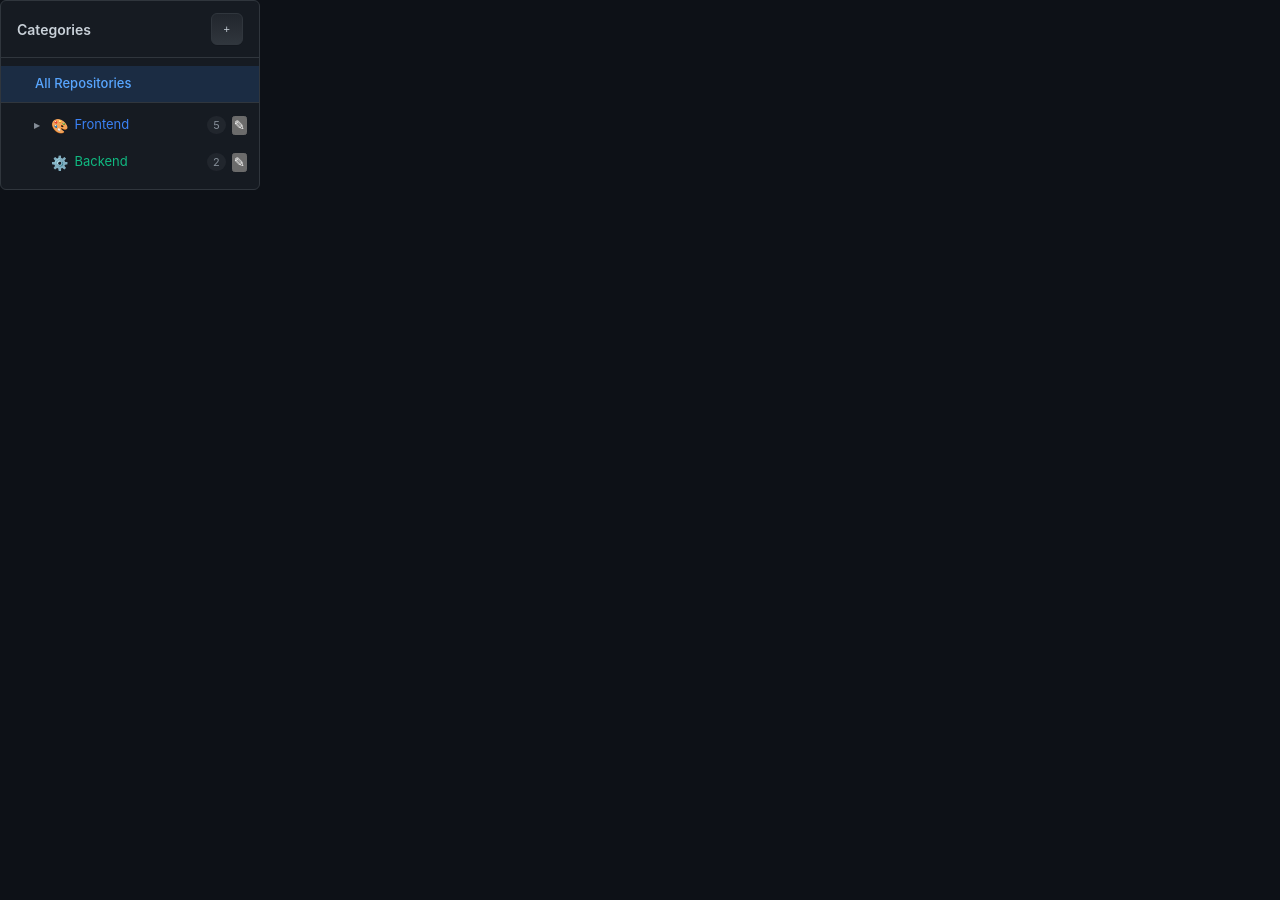
Test case: CategorySidebar › discards stale edit response when another edit is clicked
Click the 1st button titled "Edit category": (239, 125) left=232, top=116, right=247, bottom=134
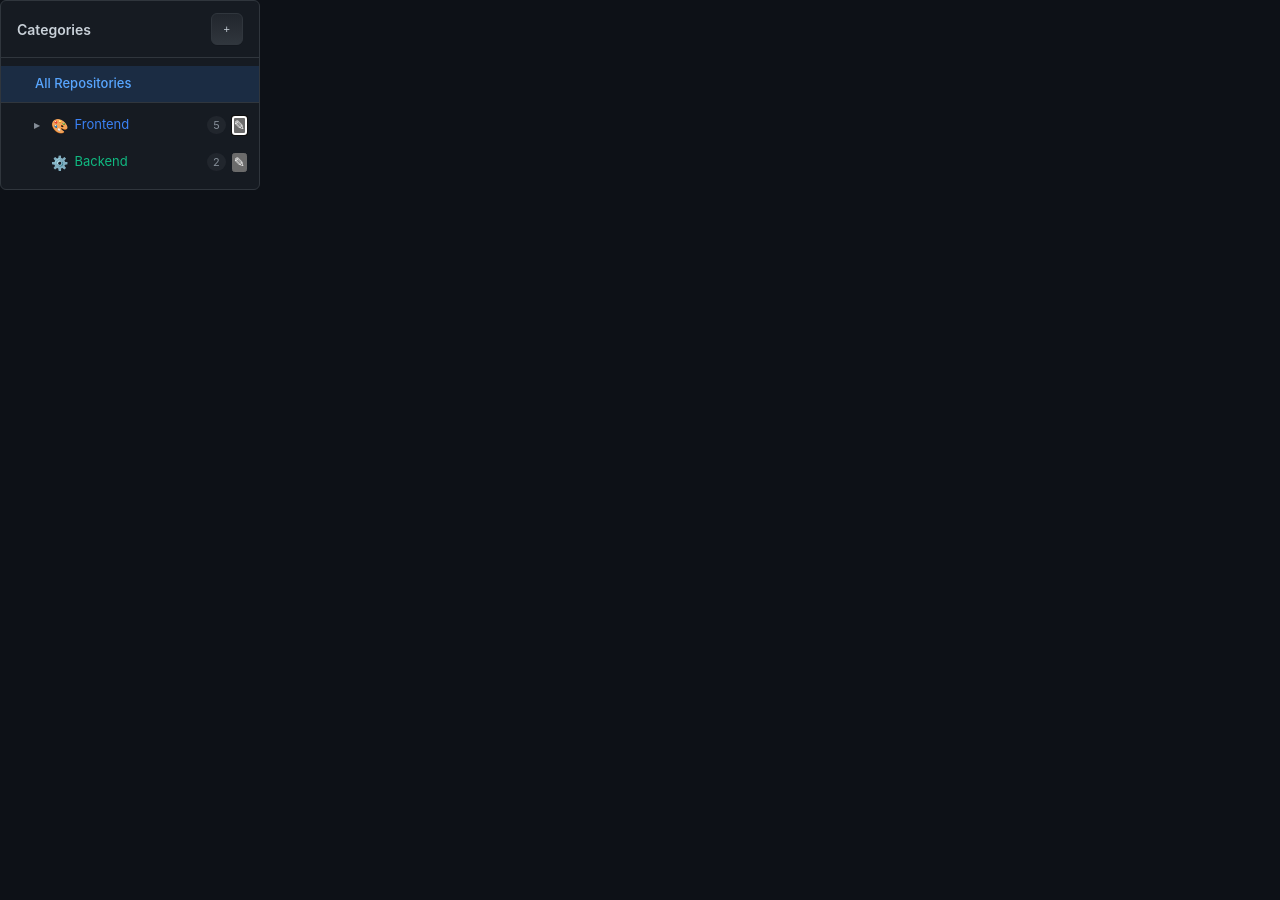
Click the 2nd button titled "Edit category": (239, 162) left=232, top=152, right=247, bottom=172
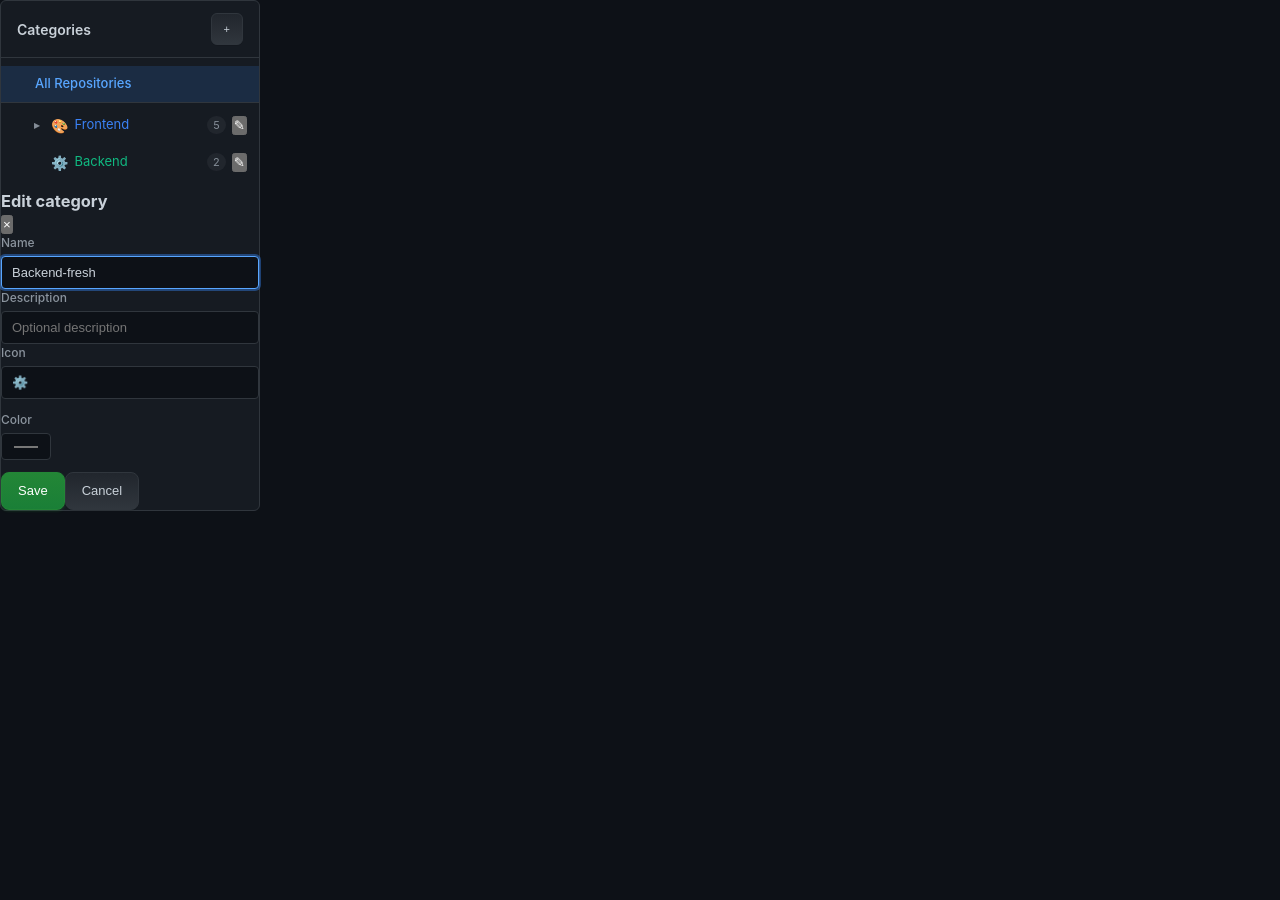
Now the field labelled "Name" holds "Backend-fresh", box left=1, top=256, right=259, bottom=289
